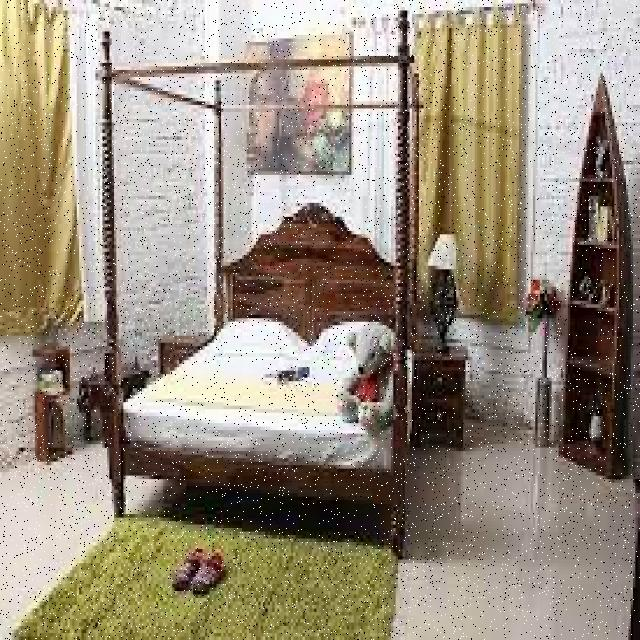bed: (122, 203, 408, 522)
